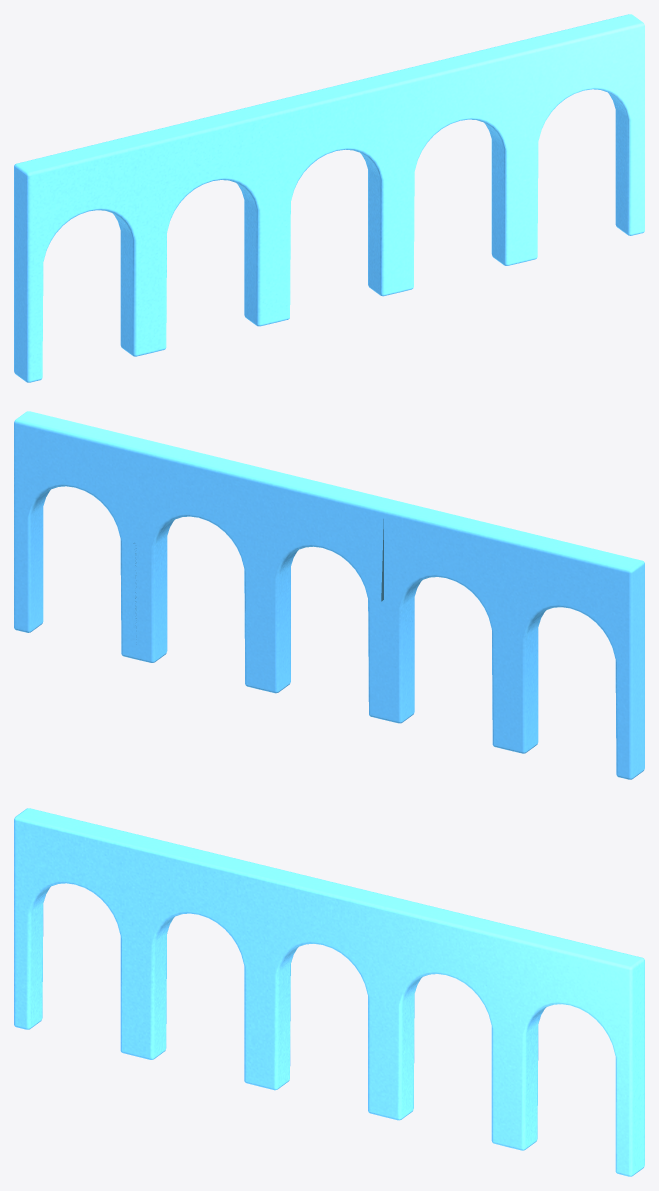
Rendered from pillars.glb.
3 views of the same model, one above another, from view 1: azimuth 30°, elevation 25°; view 2: azimuth 150°, elevation 25°; view 3: azimuth 330°, elevation 25° (orthographic).
Parts seen in each view (by area): view 1: Plane; view 2: Plane; view 3: Plane.
Boxes of the visible parts, <box> form: Plane: <box>14,14,644,382</box>; Plane: <box>14,411,644,779</box>; Plane: <box>14,808,644,1176</box>.
Size of the model in its own units: 8.94 by 2.91 by 0.37.
